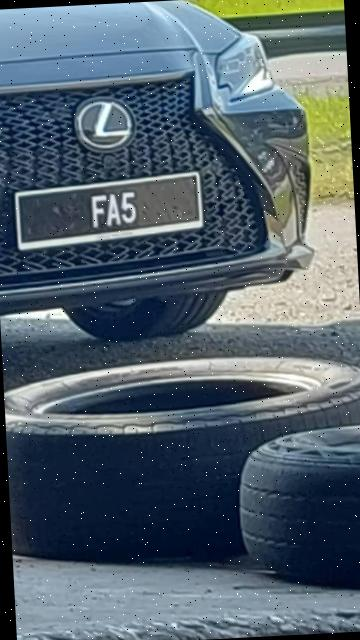License_Plate: (28, 180, 197, 239)
car: (1, 1, 320, 316)
